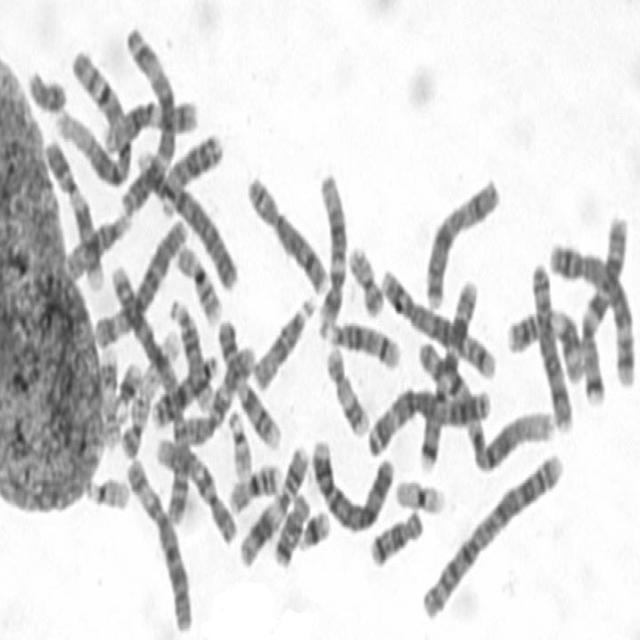A1: (414, 327, 560, 471), (56, 42, 132, 189)
A2: (417, 441, 568, 622), (104, 255, 194, 531)
A3: (117, 16, 179, 218), (361, 377, 493, 459)
B4: (132, 142, 241, 291), (306, 427, 398, 536)
B5: (546, 231, 638, 389), (377, 262, 498, 381)
C10: (152, 428, 240, 546), (172, 338, 258, 447)
C11: (236, 436, 313, 569), (506, 299, 588, 385)
C12: (96, 92, 200, 154), (314, 163, 350, 328)
C6: (89, 208, 189, 352), (123, 447, 196, 634)
C7: (413, 269, 482, 471), (579, 210, 631, 406)
C8: (242, 166, 332, 297), (527, 255, 576, 433)
C9: (41, 131, 107, 293), (213, 311, 283, 451)
D13: (157, 124, 225, 219), (148, 350, 218, 430)
D14: (166, 291, 216, 409), (315, 312, 403, 370)
D15: (250, 287, 317, 392), (64, 205, 135, 281)
E16: (173, 237, 225, 326), (224, 454, 284, 516)
E17: (322, 338, 372, 439), (98, 341, 122, 450)
E18: (366, 501, 425, 569), (269, 485, 311, 569)
F19: (140, 323, 183, 402), (392, 471, 448, 516)
F20: (345, 237, 386, 318), (119, 386, 152, 459)
G21: (113, 353, 144, 417), (295, 501, 333, 553)
G22: (224, 402, 254, 480), (81, 468, 132, 512)
X: (420, 169, 502, 311)
Y: (24, 60, 69, 115)
